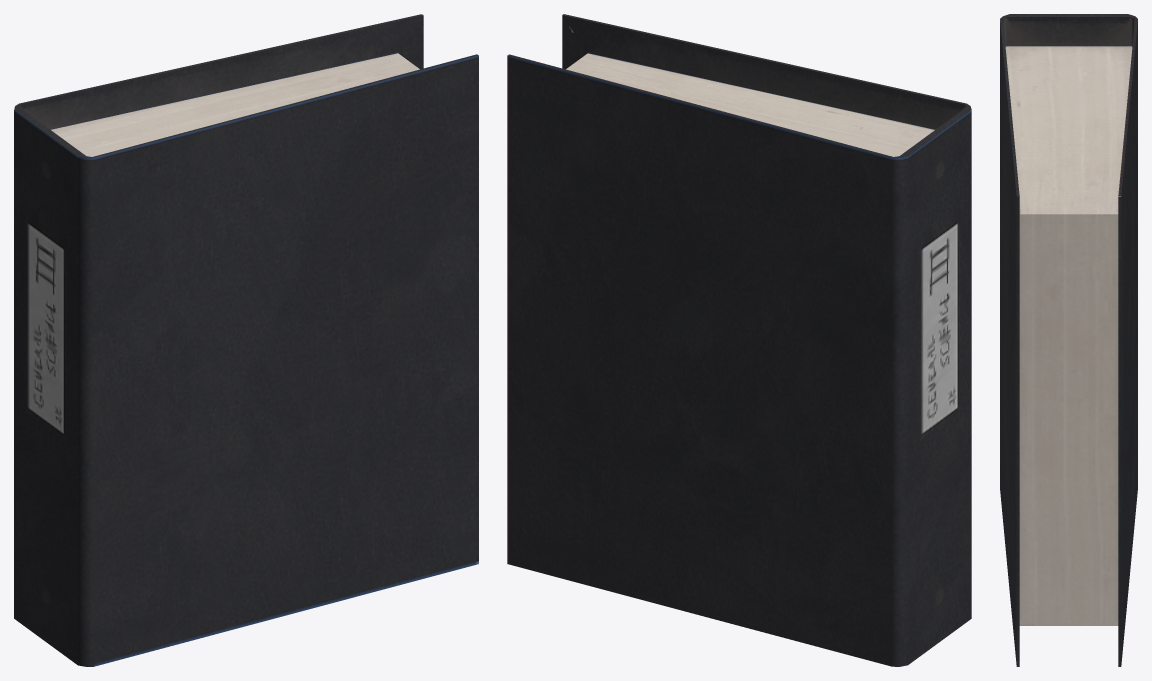
The model's file is SM_Binder_01a.fbx.
The picture shows the model from 3 angles, left to right: view 1: azimuth 30°, elevation 25°; view 2: azimuth 150°, elevation 25°; view 3: azimuth 270°, elevation 25°; orthographic projection. The views are drawn at different scales.
Parts seen in each view (by area): view 1: SM_Binder_01a_LOD0; view 2: SM_Binder_01a_LOD0; view 3: SM_Binder_01a_LOD0.
Part boxes in pixels (left/top/right/bottom): SM_Binder_01a_LOD0: left=14, top=14, right=478, bottom=666; SM_Binder_01a_LOD0: left=507, top=14, right=971, bottom=666; SM_Binder_01a_LOD0: left=1000, top=14, right=1137, bottom=666.
Size of the model in its own units: 27.47 by 8.77 by 33.01.
